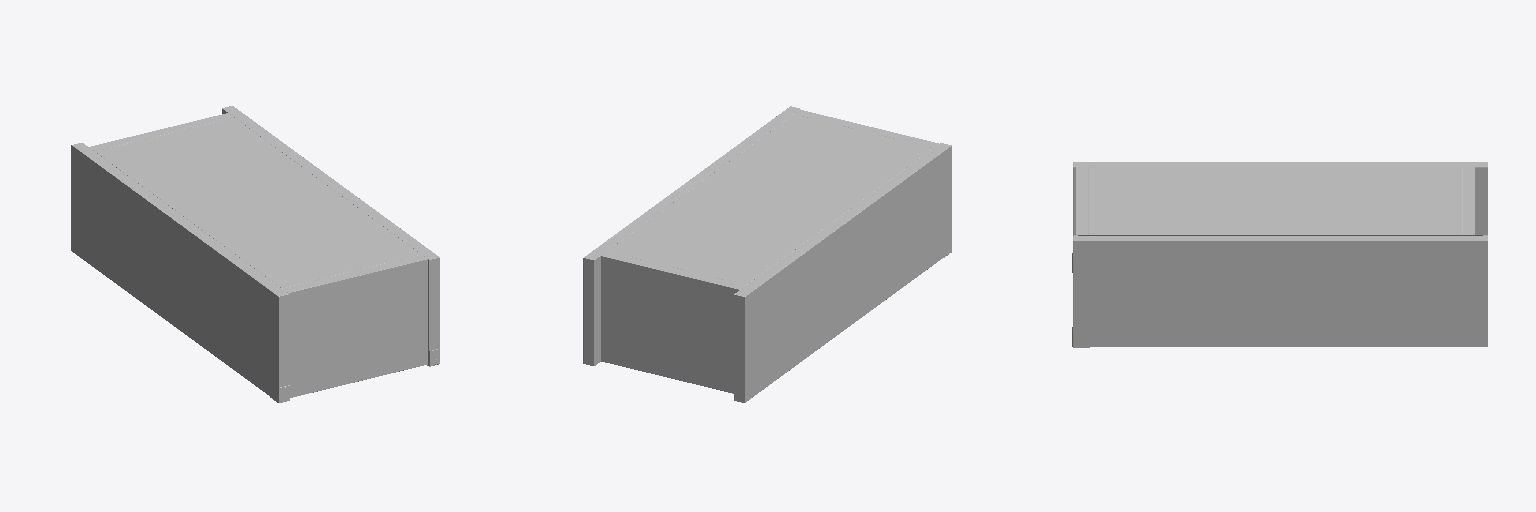
File: Yaziko Wardrobe N171123.obj
3 renders of one model, left to right at view 1: azimuth 30°, elevation 25°; view 2: azimuth 150°, elevation 25°; view 3: azimuth 270°, elevation 25°, orthographic.
Parts seen in each view (by area): view 1: Object001, Object002; view 2: Object001, Object002; view 3: Object001, Object002.
Boxes of the visible parts, x1=… form: Object001: x1=71, y1=106, x2=439, y2=402; Object002: x1=283, y1=255, x2=427, y2=397; Object001: x1=583, y1=106, x2=951, y2=402; Object002: x1=795, y1=110, x2=938, y2=147; Object001: x1=1073, y1=162, x2=1487, y2=346; Object002: x1=1076, y1=167, x2=1087, y2=234.
Bounding box in the file's own units: 89.02 × 57.6 × 199.